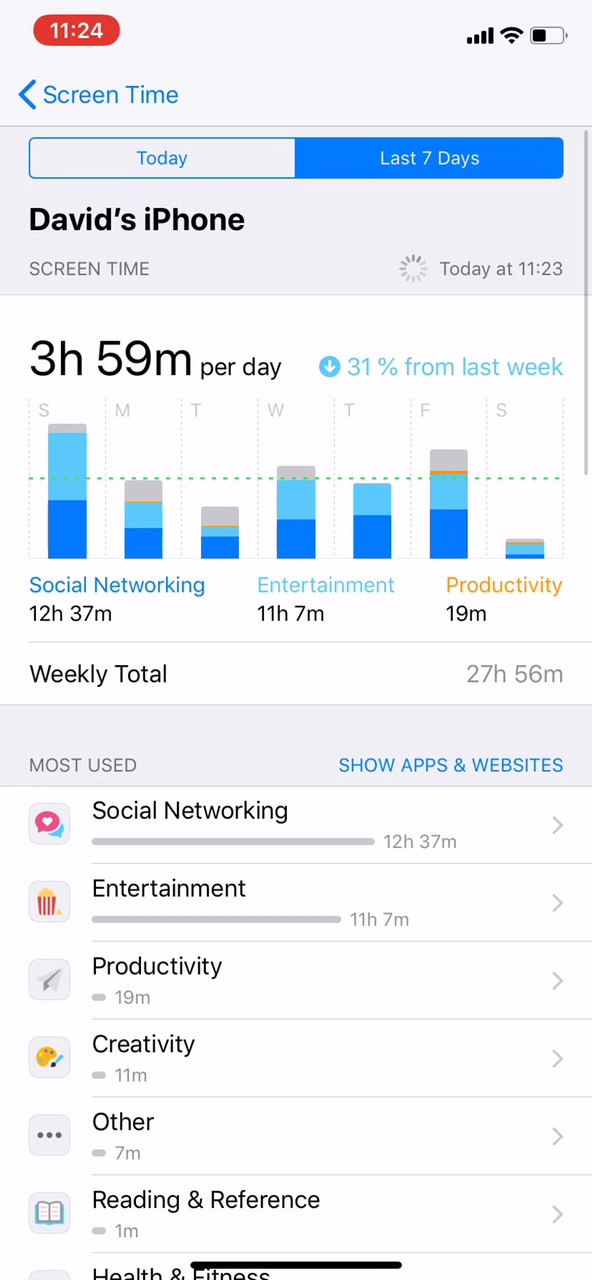use_over: (20, 569, 576, 691)
